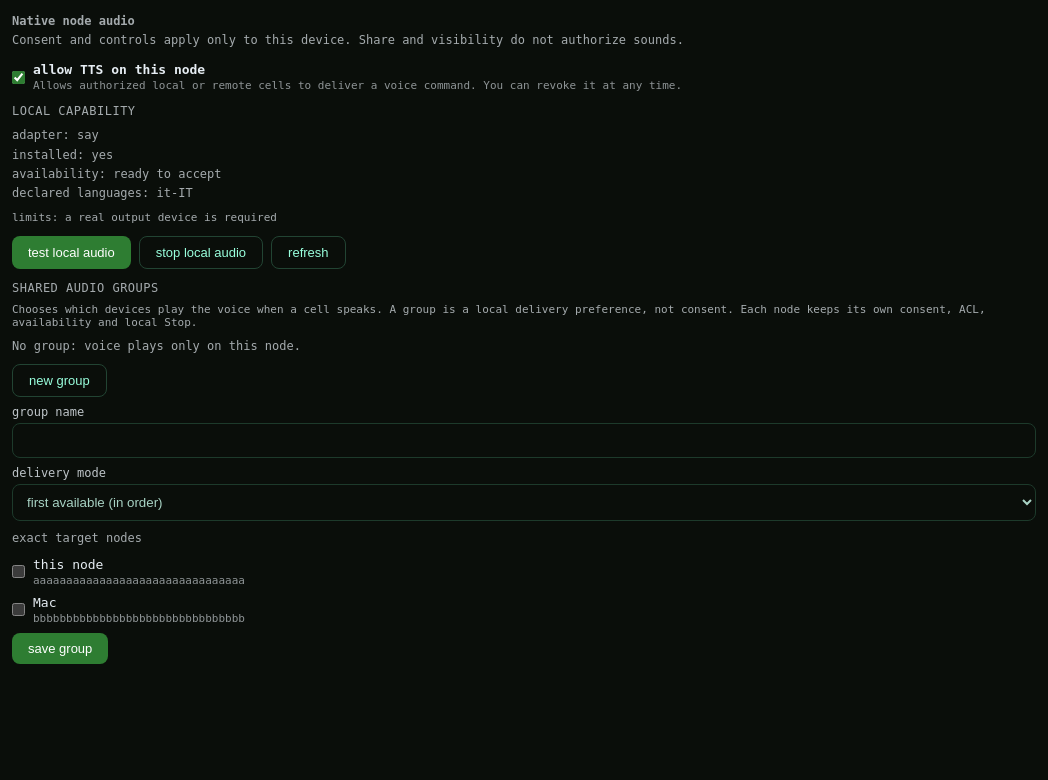
Test: Settings native node audio › edits named local groups with exact node IDs, without turning them into consent
Expected: the text "Shared audio groups" is shown, left=12, top=281, right=159, bottom=295
In the field labelled "group name": (524, 441) left=12, top=423, right=1036, bottom=458, type "Studio"
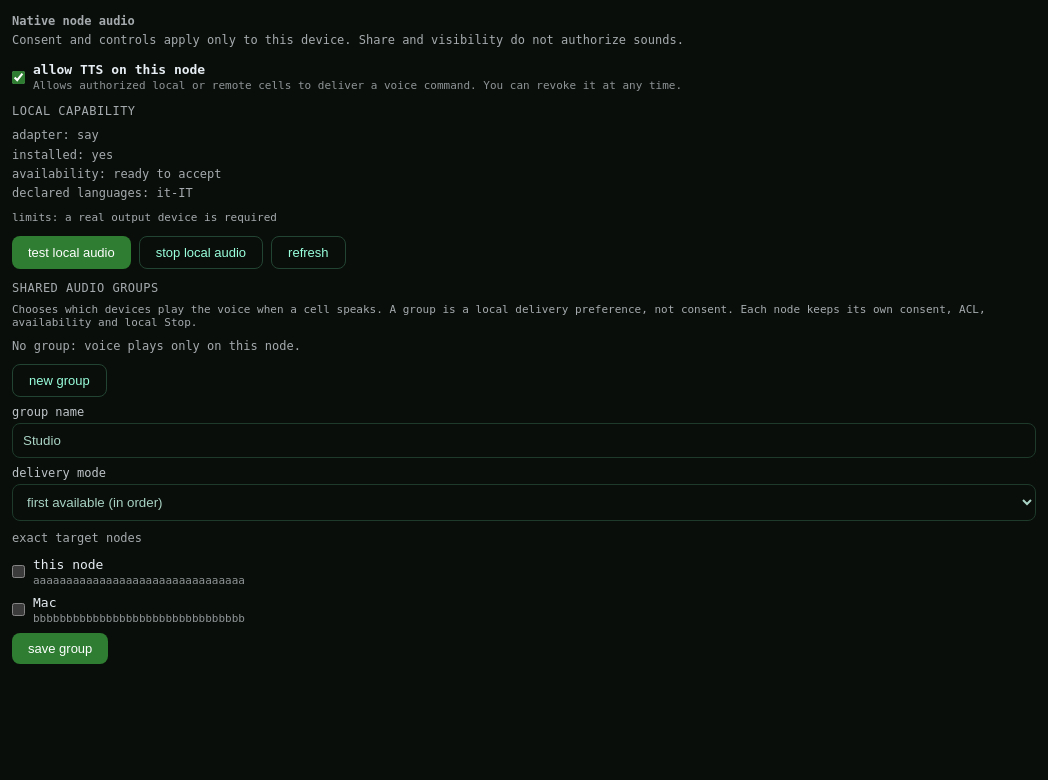
Click the 3rd checkbox: (18, 610) left=12, top=603, right=25, bottom=616
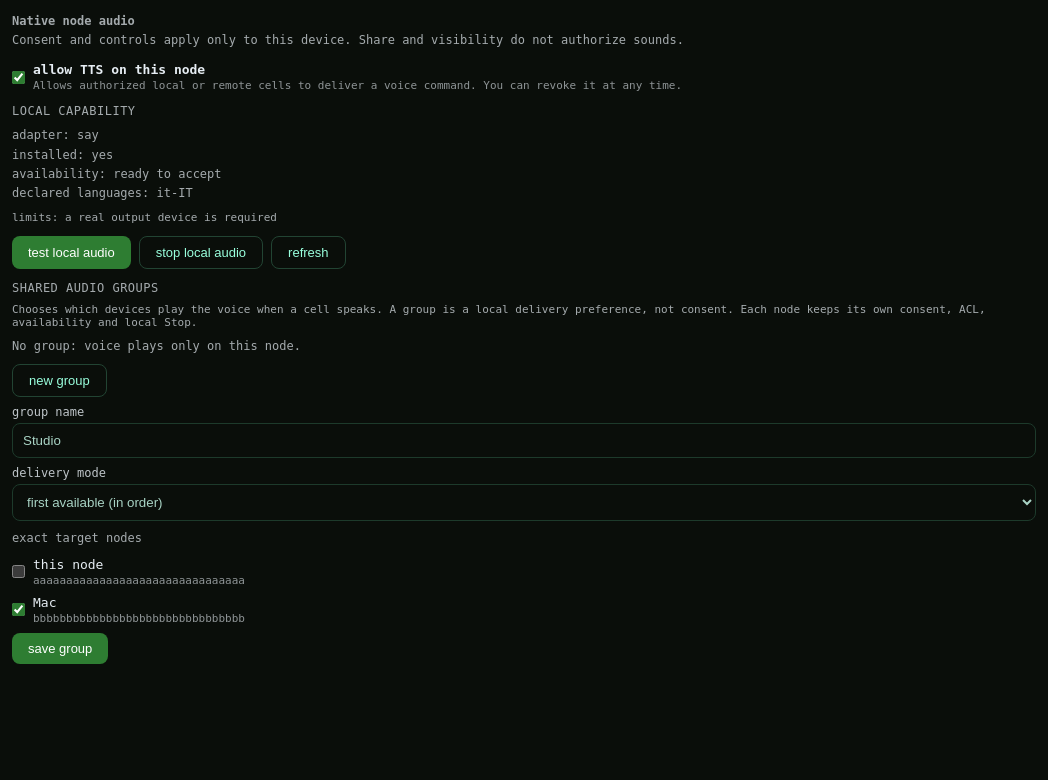
Click the button "save group": (60, 648) left=12, top=632, right=108, bottom=664
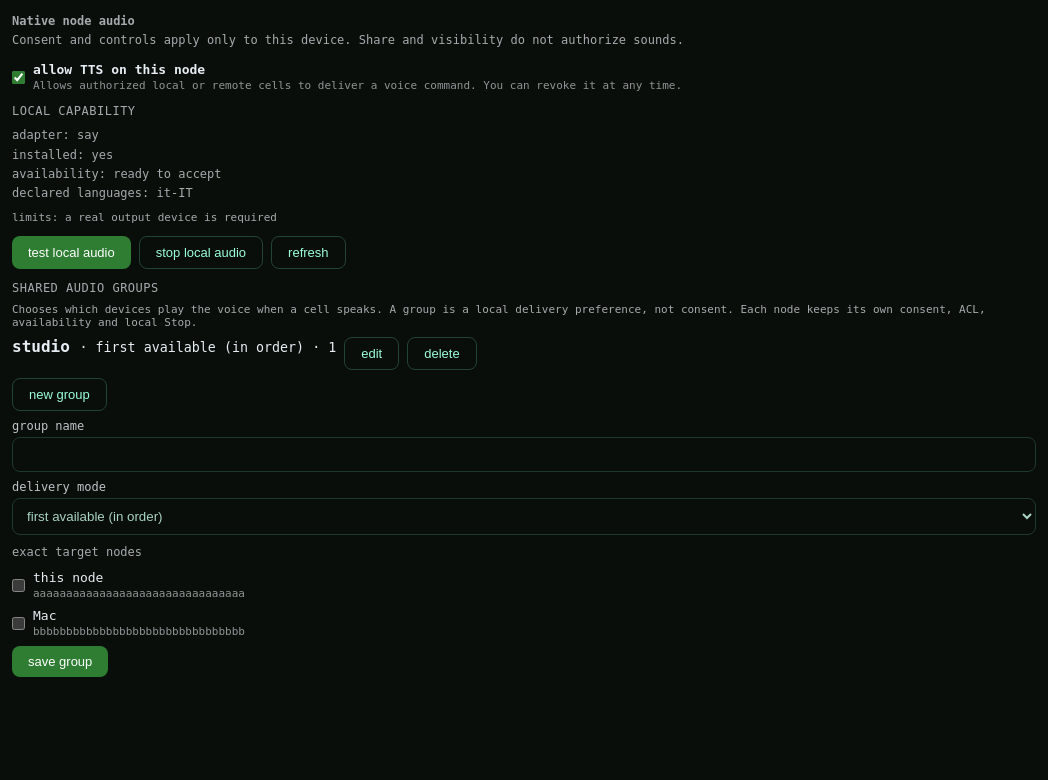
Expected: the text "A group is a local delivery preference" is shown, left=12, top=303, right=986, bottom=329
Now the text "studio" is shown, box left=12, top=337, right=70, bottom=356
